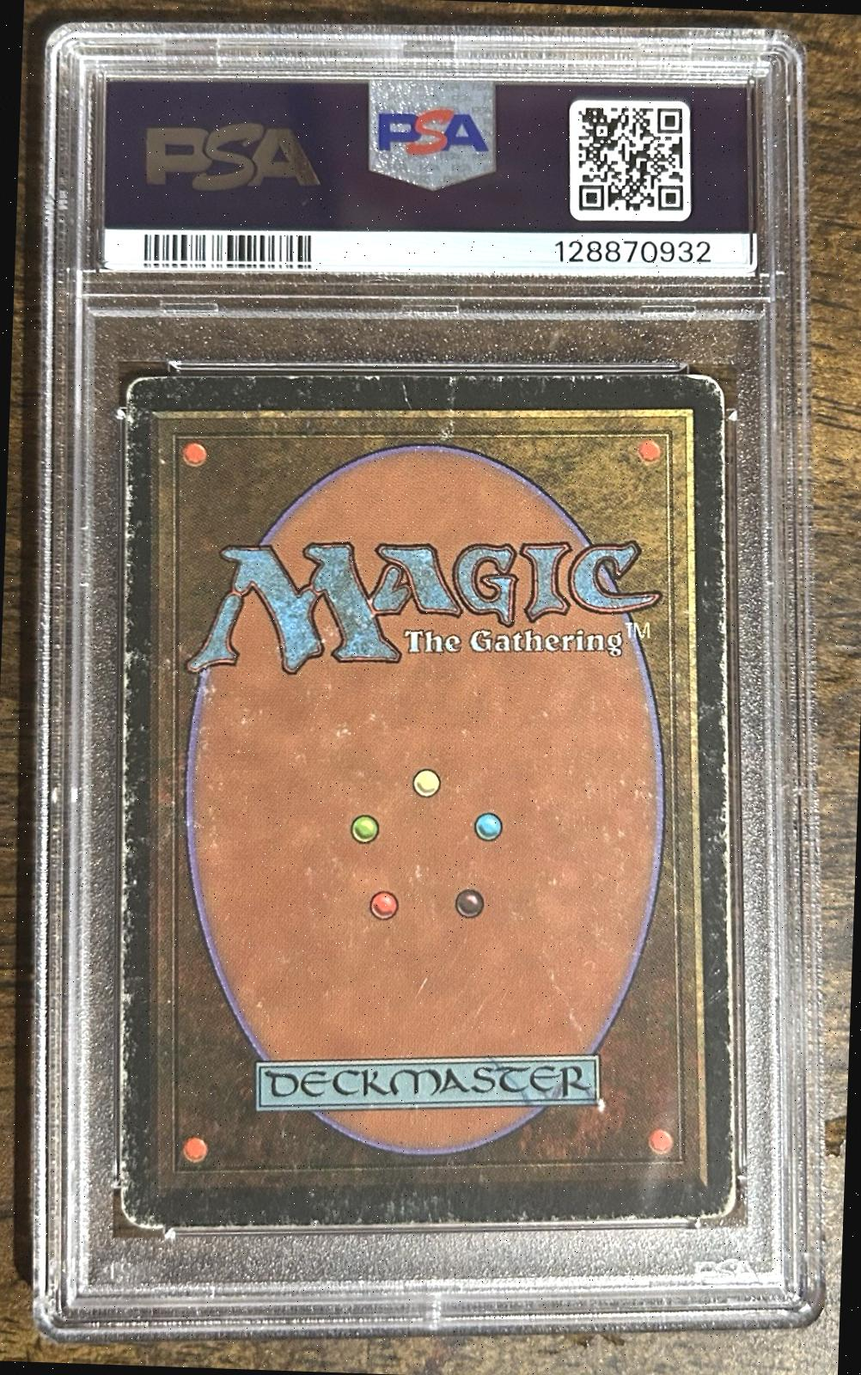card-2UtV: (120, 374, 736, 1230)
